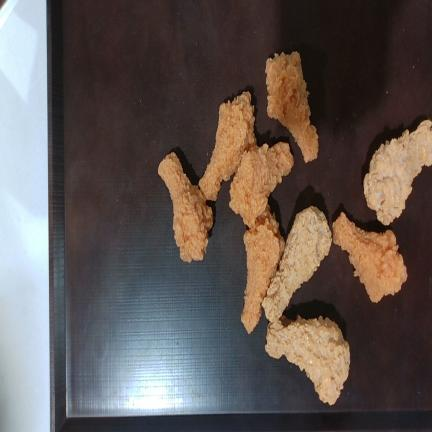chicken: (262, 206, 332, 322), (265, 316, 350, 404), (364, 120, 432, 225), (333, 212, 407, 302), (198, 92, 256, 200), (158, 152, 213, 262), (266, 52, 318, 162), (241, 205, 285, 333), (229, 143, 293, 227)
